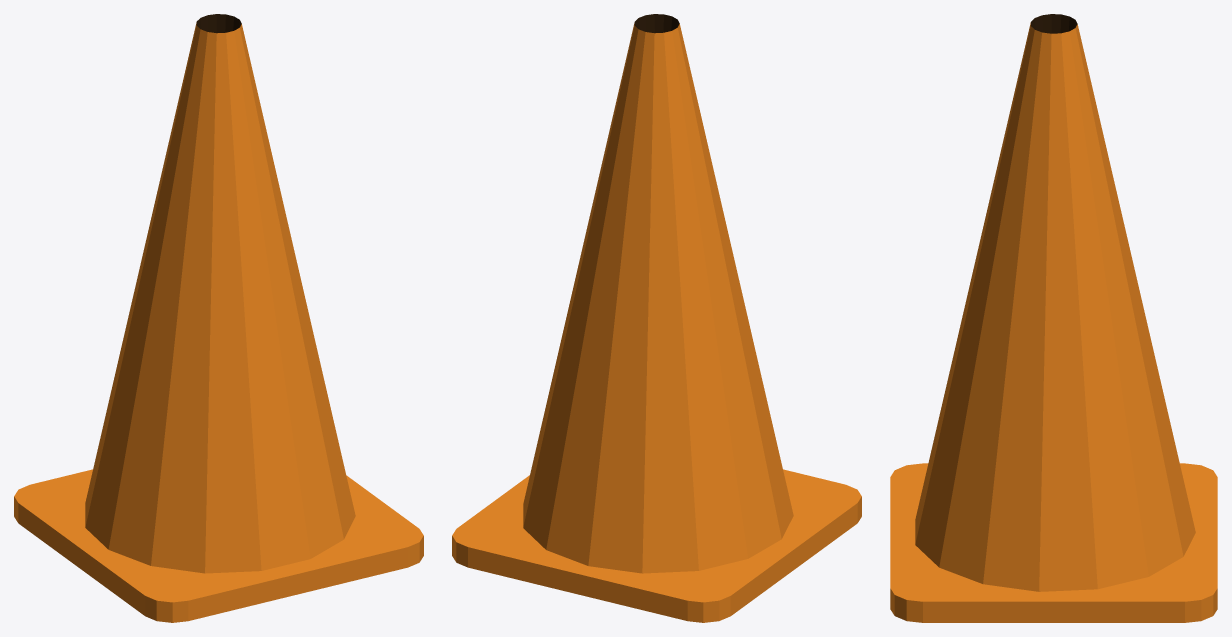
The model's file is equipment_0003_cone.glb.
3 renders of one model, left to right at view 1: azimuth 30°, elevation 25°; view 2: azimuth 150°, elevation 25°; view 3: azimuth 270°, elevation 25°, orthographic. The views are drawn at different scales.
Visible parts, largest first — view 1: cone, base, hole; view 2: cone, base, hole; view 3: cone, base, hole.
Part boxes in pixels (left/top/right/bottom): cone: left=85, top=22, right=355, bottom=573; base: left=14, top=469, right=423, bottom=622; hole: left=196, top=14, right=241, bottom=33; cone: left=523, top=23, right=793, bottom=573; base: left=452, top=469, right=861, bottom=622; hole: left=634, top=14, right=679, bottom=33; cone: left=915, top=22, right=1195, bottom=591; base: left=890, top=463, right=1217, bottom=622; hole: left=1031, top=14, right=1077, bottom=33.
Bounding box in the file's own units: 28 × 50 × 28.
